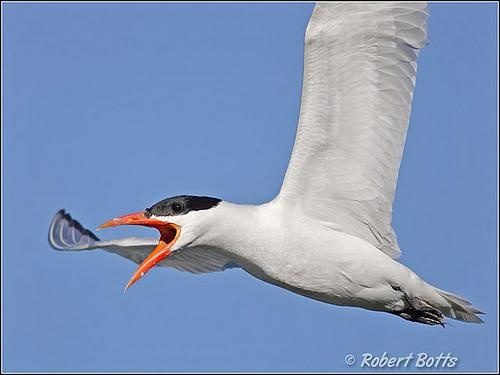bird: (39, 1, 483, 329)
